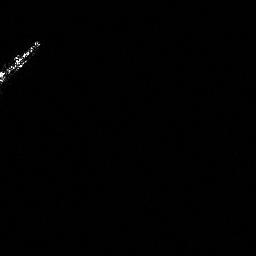ship: (1, 38, 43, 89)
